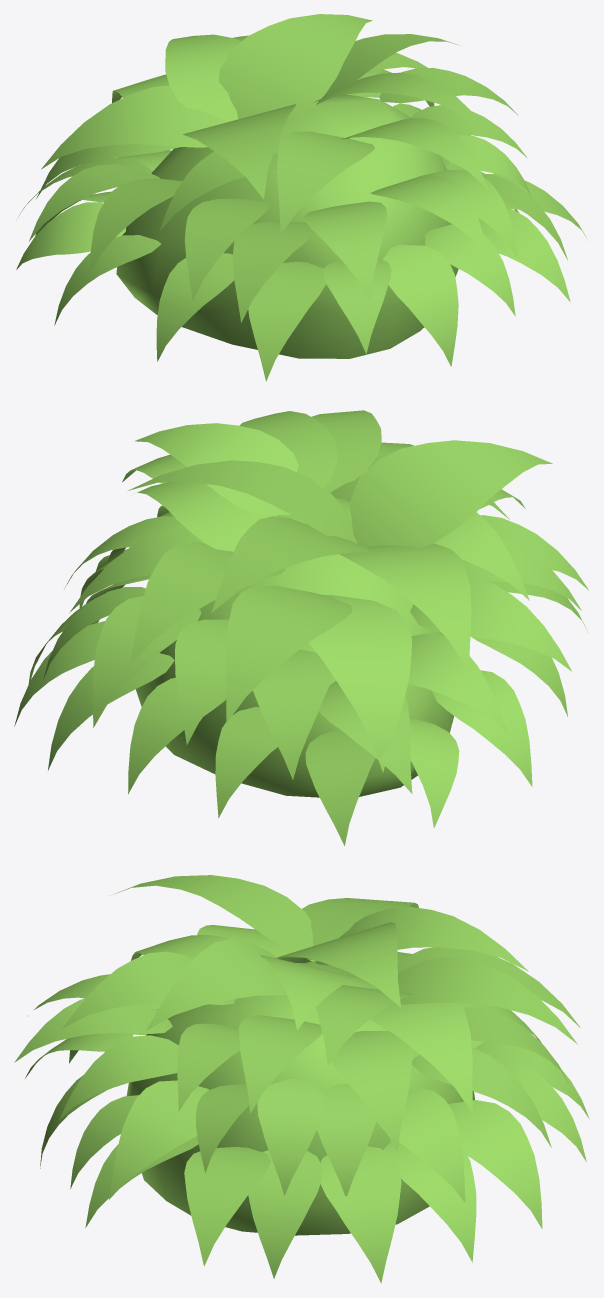
File: Arbusto.fbx
3 views of the same model, one above another, from view 1: azimuth 30°, elevation 25°; view 2: azimuth 150°, elevation 25°; view 3: azimuth 270°, elevation 25° (orthographic). The views are drawn at different scales.
Visible parts, largest first — view 1: pCube2; view 2: pCube2; view 3: pCube2.
Part boxes in pixels (x1=…): pCube2: x1=16, y1=14, x2=586, y2=381; pCube2: x1=14, y1=410, x2=588, y2=845; pCube2: x1=14, y1=875, x2=589, y2=1283.
Bounding box in the file's own units: 250 × 121 × 252.
